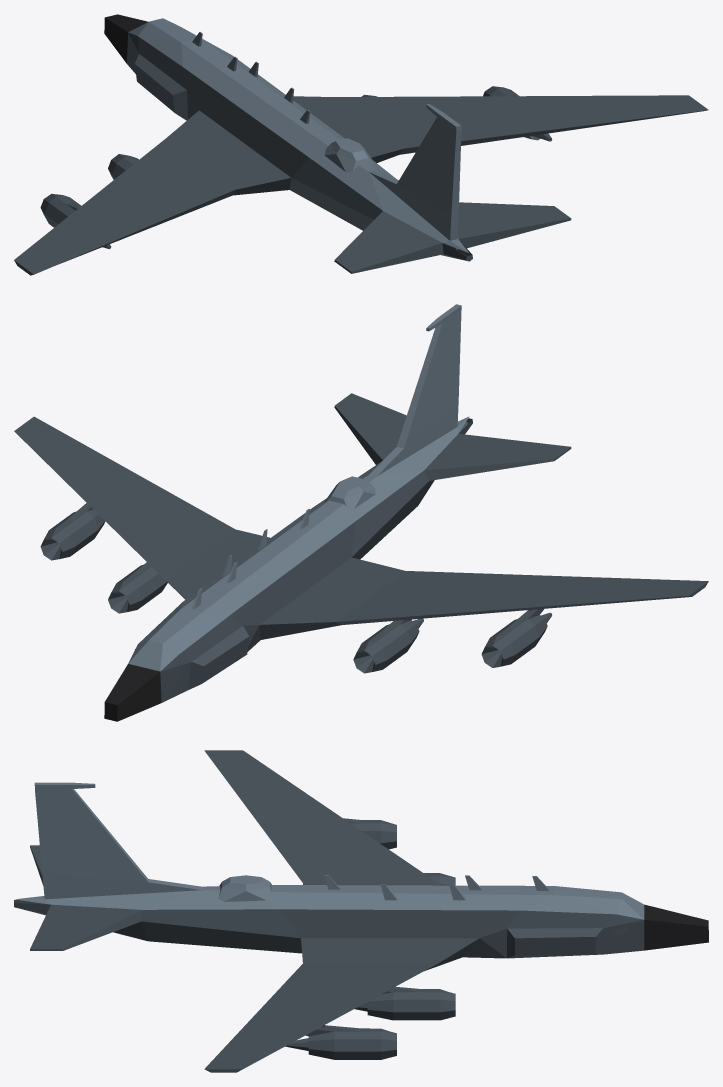
The model's file is ISR-RC135.glb.
3 views of the same model, one above another, from view 1: azimuth 30°, elevation 25°; view 2: azimuth 150°, elevation 25°; view 3: azimuth 270°, elevation 25° (orthographic). The views are drawn at different scales.
Size of the model in its own units: 38 by 9.88 by 34.99.
